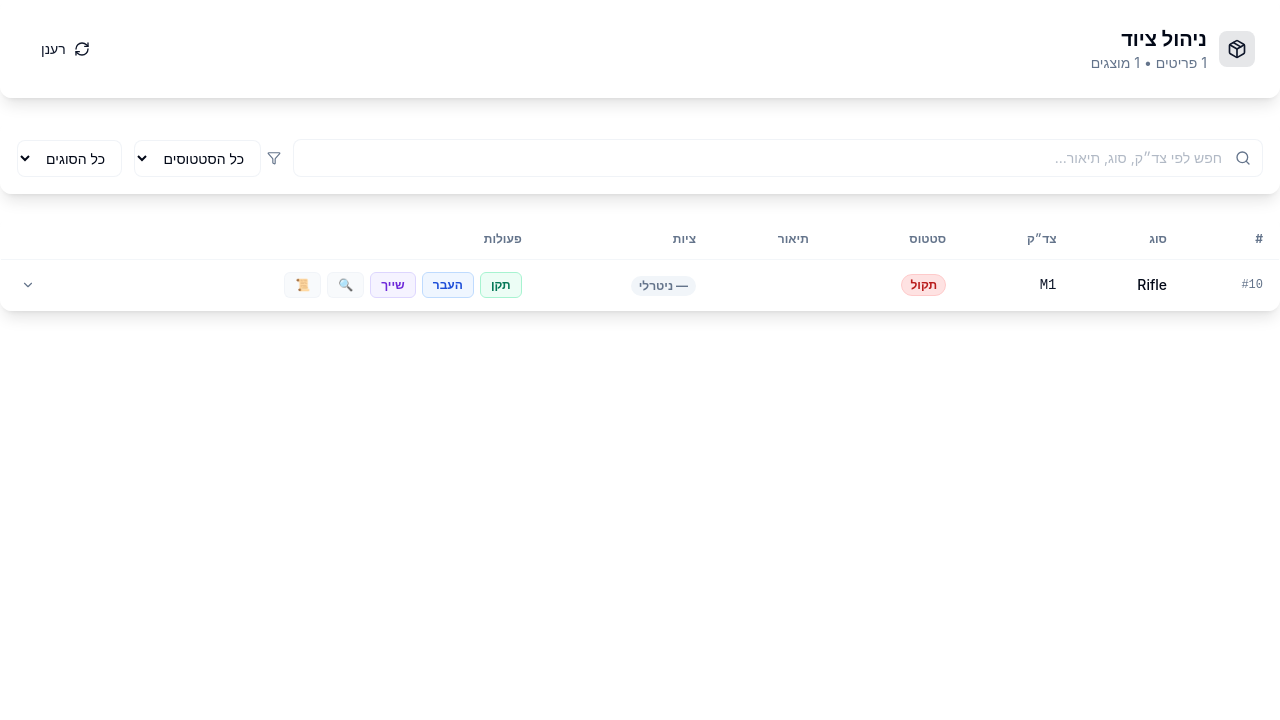
Test case: EquipmentPage העבר modal search: a newer term cancels the older request (FE-H5) › shows only the newest term's results, sent as a parameter, with no error logged
Click the button "העבר" at (448, 285), box [422,272,474,298]
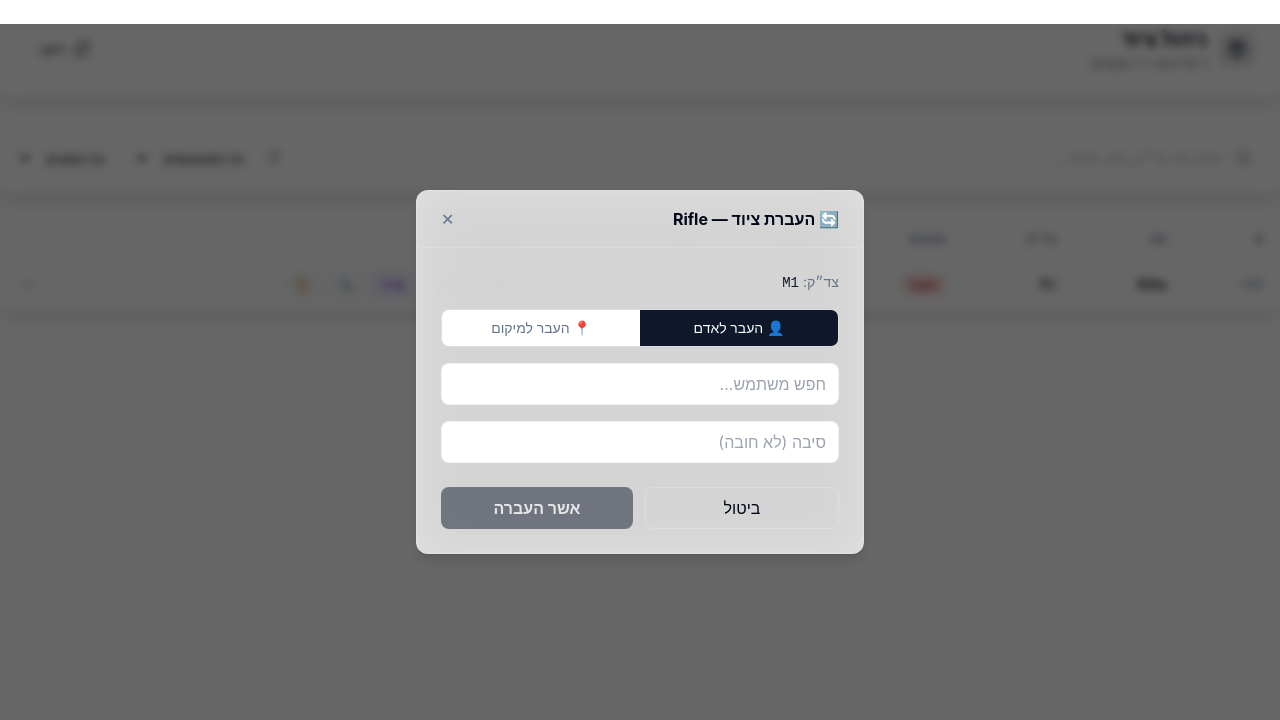
Type "ab" into the field with placeholder "חפש משתמש..." at (640, 384), box [441,363,839,405]
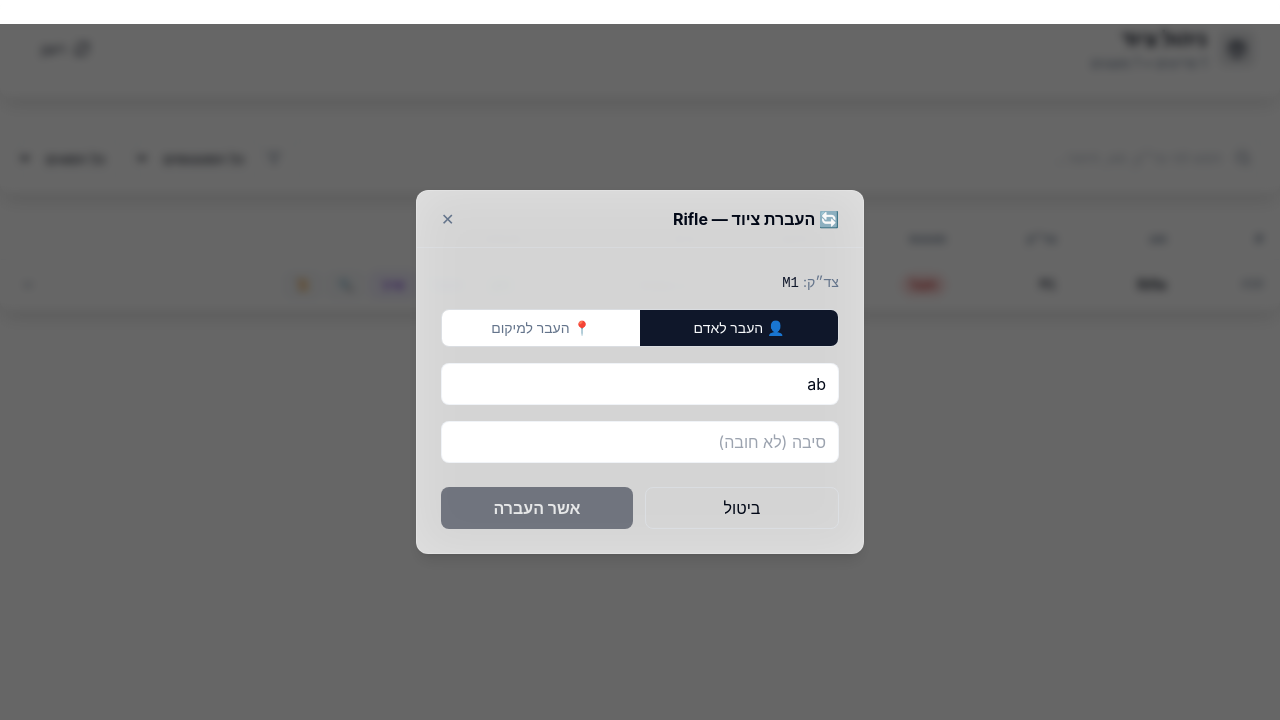
Replace the text in the field with placeholder "חפש משתמש..." with "abc" at (640, 384), box [441,363,839,405]
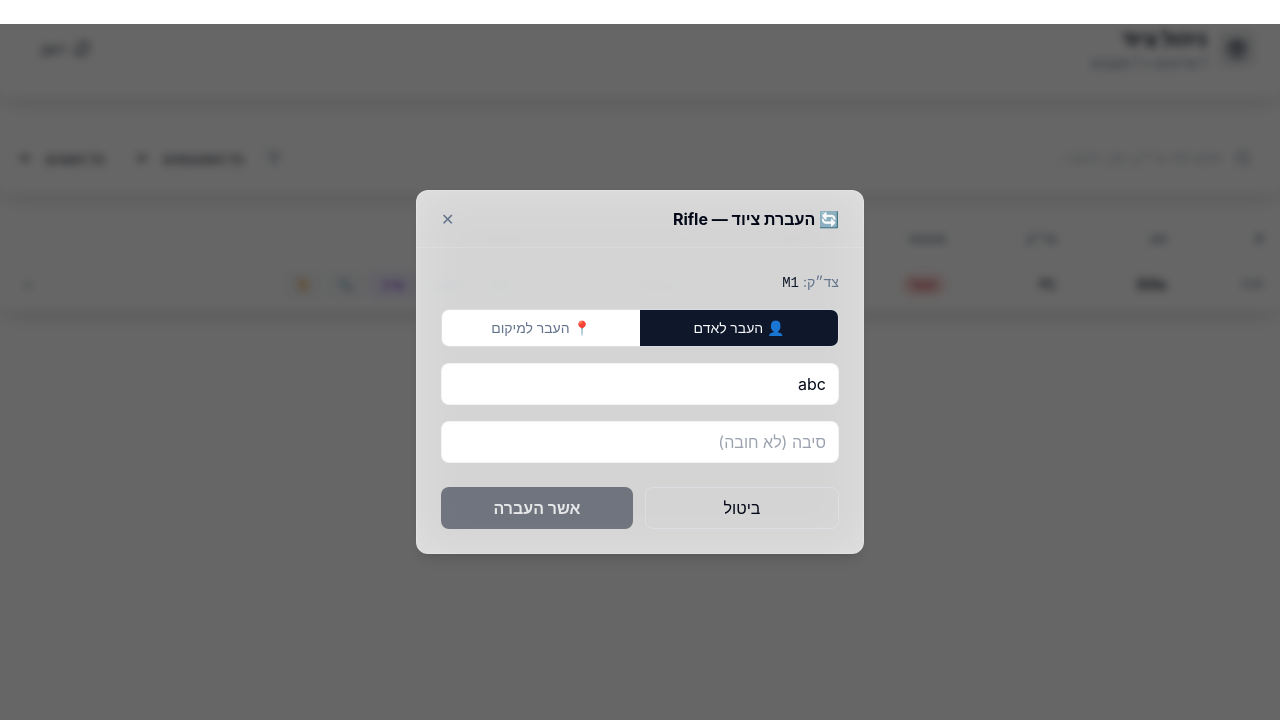
Replace the text in the field with placeholder "חפש משתמש..." with "abcd" at (640, 384), box [441,363,839,405]
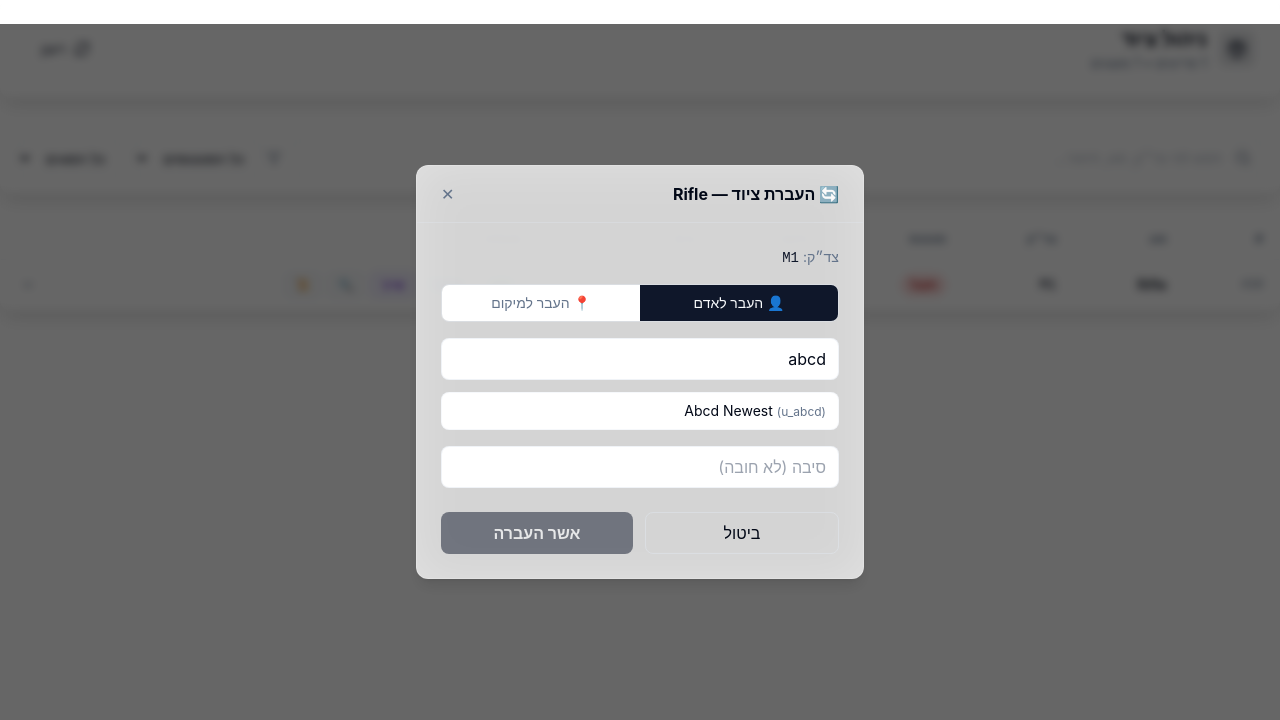
Now the button "Abcd Newest (u_abcd)" is shown, box [442,393,838,429]
